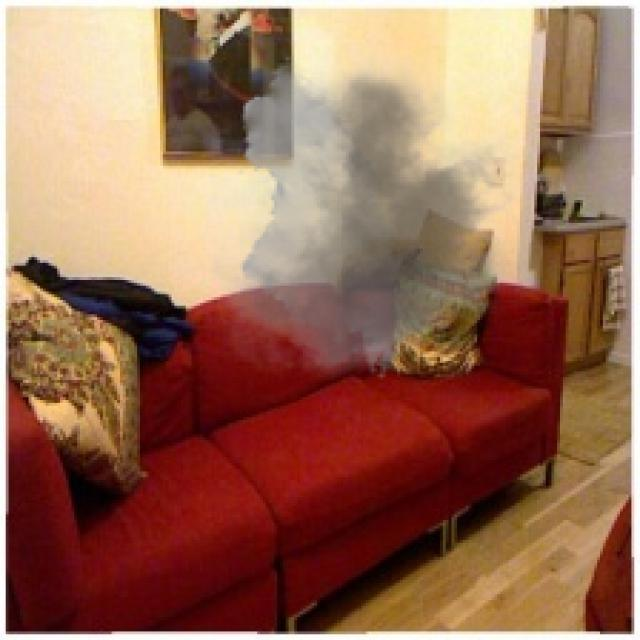Smoke: (165, 42, 540, 392)
